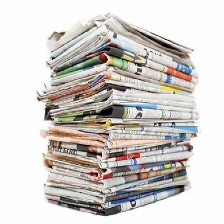news_paper: (30, 13, 201, 217)
